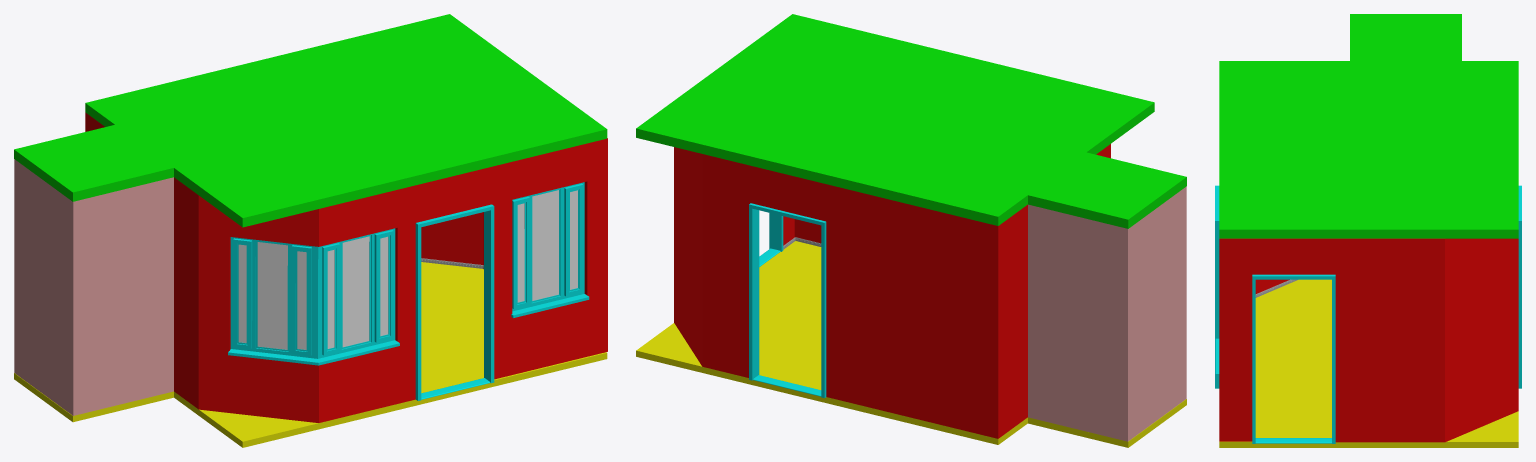
The model's file is FloorPlan525_physics.fbx.
3 views of the same model, side by side, from view 1: azimuth 30°, elevation 25°; view 2: azimuth 150°, elevation 25°; view 3: azimuth 270°, elevation 25° (orthographic). The views are drawn at different scales.
Visible parts, largest first — view 1: FP525:Ceiling_1, FP525:Walls_1, FP525:Walls_2, FP525:Floor_1, FP525:WindowFrame_1, FP525:WindowPane_1, FP525:Ceiling_2, FP525:WindowFrame_2, FP525:WindowPane_2, FP525:DoorFrame_1, FP525:Floor_2; view 2: FP525:Walls_1, FP525:Ceiling_1, FP525:Walls_2, FP525:Floor_1, FP525:Ceiling_2, FP525:DoorFrame_3, FP525:Floor_2, FP525:DoorFrame_2; view 3: FP525:Ceiling_1, FP525:Walls_1, FP525:Floor_1, FP525:Ceiling_2, FP525:DoorFrame_2, FP525:DoorFrame_1, FP525:DoorFrame_3, FP525:Floorboard_2.
Boxes of the visible parts, x1,y1,x2,y2 form: FP525:Ceiling_1: (85, 14, 607, 227); FP525:Walls_1: (85, 112, 607, 422); FP525:Walls_2: (14, 159, 173, 415); FP525:Floor_1: (174, 262, 607, 447); FP525:WindowFrame_1: (228, 228, 399, 365); FP525:WindowPane_1: (238, 236, 388, 349); FP525:Ceiling_2: (14, 125, 173, 201); FP525:WindowFrame_2: (511, 182, 589, 318); FP525:WindowPane_2: (517, 190, 577, 302); FP525:DoorFrame_1: (415, 204, 494, 400); FP525:Floor_2: (14, 373, 173, 422); FP525:Walls_1: (674, 144, 1110, 438); FP525:Ceiling_1: (636, 14, 1154, 225); FP525:Walls_2: (1028, 186, 1186, 441); FP525:Floor_1: (636, 241, 1027, 444); FP525:Ceiling_2: (1028, 152, 1186, 228); FP525:DoorFrame_3: (749, 203, 826, 398); FP525:Floor_2: (1028, 399, 1186, 447); FP525:DoorFrame_2: (769, 213, 783, 251); FP525:Ceiling_1: (1219, 61, 1518, 238); FP525:Walls_1: (1219, 238, 1518, 442); FP525:Floor_1: (1219, 279, 1518, 447); FP525:Ceiling_2: (1350, 14, 1461, 60); FP525:DoorFrame_2: (1252, 274, 1335, 443); FP525:DoorFrame_1: (1215, 185, 1219, 388); FP525:DoorFrame_3: (1518, 185, 1521, 388); FP525:Floorboard_2: (1255, 438, 1331, 443).
Bounding box in the file's own units: 574 × 268 × 342.
